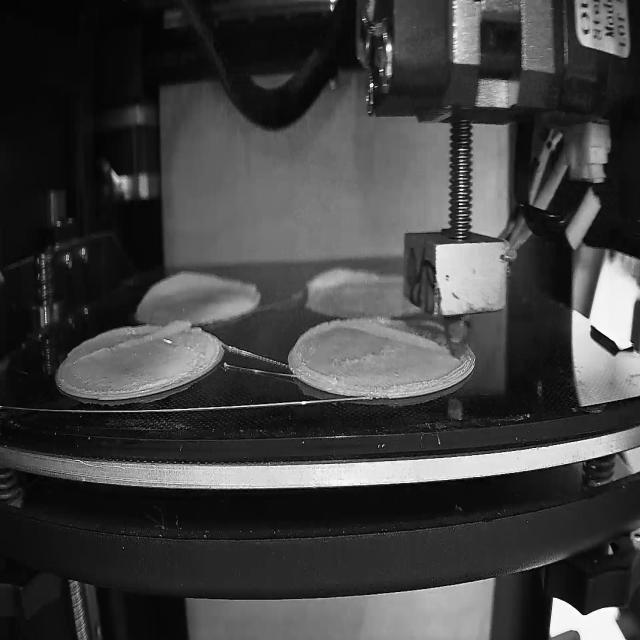over_extrusion: (76, 315, 195, 363), (140, 264, 259, 307), (350, 316, 441, 352), (304, 264, 384, 303)
